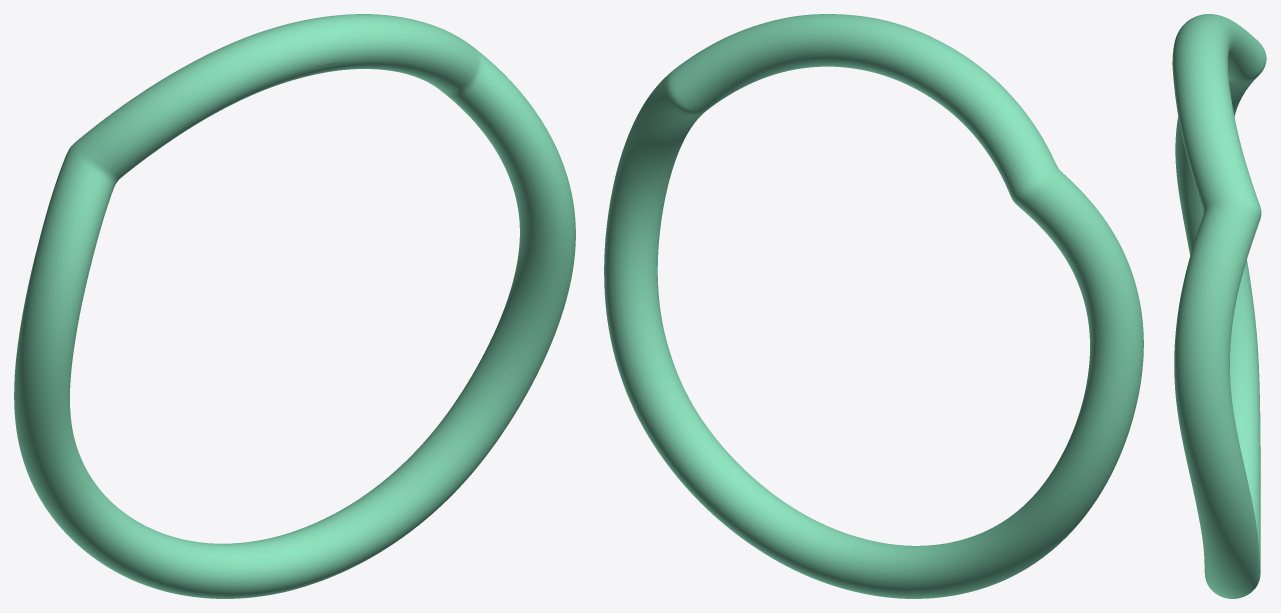
3 renders of one model, left to right at view 1: azimuth 30°, elevation 25°; view 2: azimuth 150°, elevation 25°; view 3: azimuth 270°, elevation 25°, orthographic. The views are drawn at different scales.
Parts seen in each view (by area): view 1: Metal03; view 2: Metal03; view 3: Metal03.
Part boxes in pixels (left/top/right/bottom): Metal03: left=14, top=14, right=575, bottom=598; Metal03: left=604, top=14, right=1143, bottom=598; Metal03: left=1172, top=14, right=1266, bottom=598.
Size of the model in its own units: 20.88 by 20.88 by 3.36.
